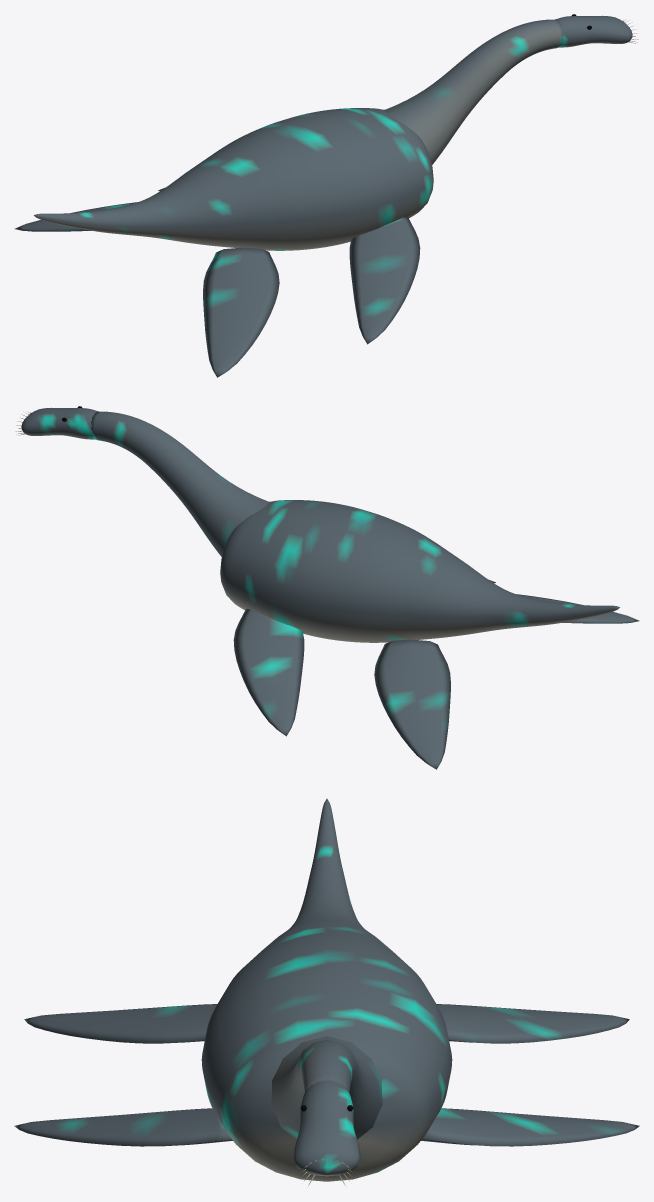
Rendered from calla_manati.fbx.
3 views of the same model, one above another, from view 1: azimuth 30°, elevation 25°; view 2: azimuth 150°, elevation 25°; view 3: azimuth 270°, elevation 25° (orthographic). The views are drawn at different scales.
Visible parts, largest first — view 1: calla_manati; view 2: calla_manati; view 3: calla_manati.
Part boxes in pixels (<box>): calla_manati: <box>14,14,638,377</box>; calla_manati: <box>15,406,639,769</box>; calla_manati: <box>14,799,639,1185</box>.
Size of the model in its own units: 500 by 304 by 142.
